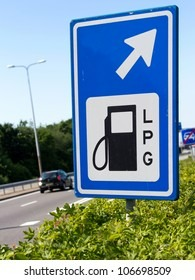fuel-station: (68, 8, 178, 200)
